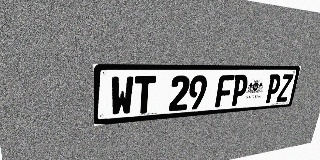2: (169, 75, 190, 111)
9: (187, 75, 208, 110)
F: (215, 75, 235, 107)
P: (230, 75, 249, 106), (264, 74, 282, 103)
T: (133, 76, 156, 114)
W: (110, 76, 134, 116)
Z: (276, 74, 294, 102)
